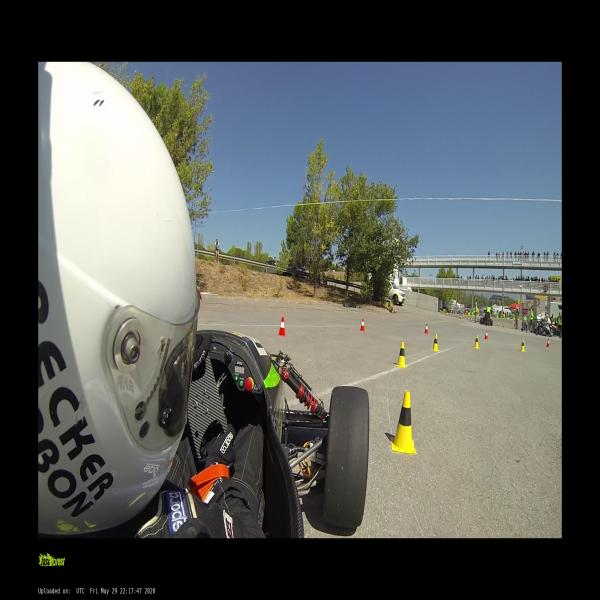orange_cone: (278, 317, 286, 337), (360, 318, 364, 332), (424, 324, 429, 334), (546, 338, 550, 348), (485, 331, 488, 340), (460, 316, 462, 320), (497, 322, 498, 326), (471, 318, 472, 321), (447, 312, 448, 315)
yellow_cone: (392, 391, 418, 455), (395, 341, 407, 368), (431, 334, 440, 352), (473, 334, 480, 349), (520, 340, 525, 352)
